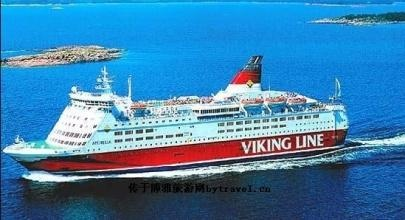youlun: (9, 53, 349, 176)
